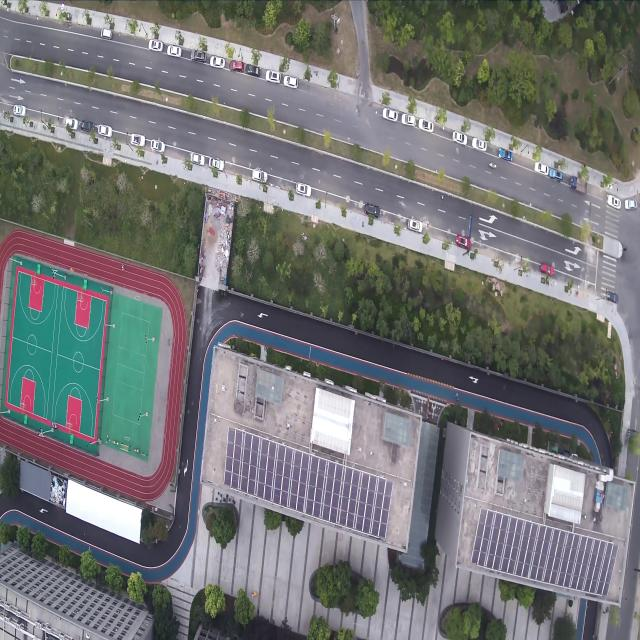drone: (240, 311, 244, 318)
